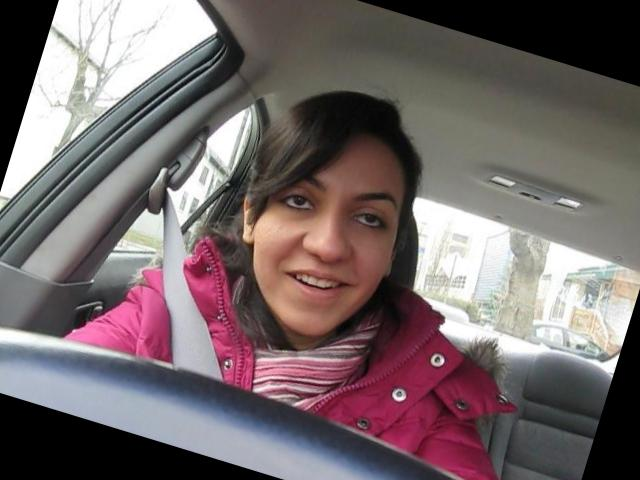eye_open: (276, 182, 320, 222), (349, 202, 393, 238)
face: (230, 142, 415, 352)
